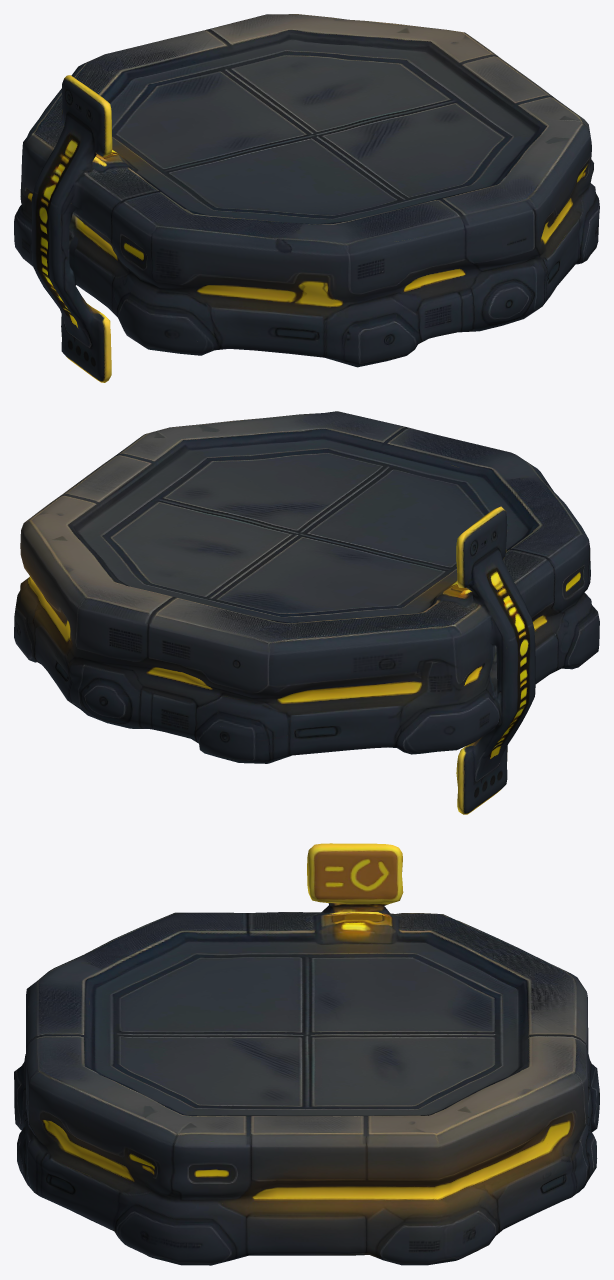
The model's file is plat_exa_YELLOW.obj.
3 renders of one model, top to bottom at view 1: azimuth 30°, elevation 25°; view 2: azimuth 150°, elevation 25°; view 3: azimuth 270°, elevation 25°, orthographic. The views are drawn at different scales.
Parts seen in each view (by area): view 1: tripo_node_c513c8d6-143c-4819-9c27-4ce12a14bb09; view 2: tripo_node_c513c8d6-143c-4819-9c27-4ce12a14bb09; view 3: tripo_node_c513c8d6-143c-4819-9c27-4ce12a14bb09.
Part boxes in pixels (x1,y1,x2,y2): tripo_node_c513c8d6-143c-4819-9c27-4ce12a14bb09: (14,14,599,382); tripo_node_c513c8d6-143c-4819-9c27-4ce12a14bb09: (14,411,599,814); tripo_node_c513c8d6-143c-4819-9c27-4ce12a14bb09: (14,843,599,1265).
Bounding box in the file's own units: 0.9847 × 0.5618 × 0.9986.
Materials: 1 (1 with a texture image).
